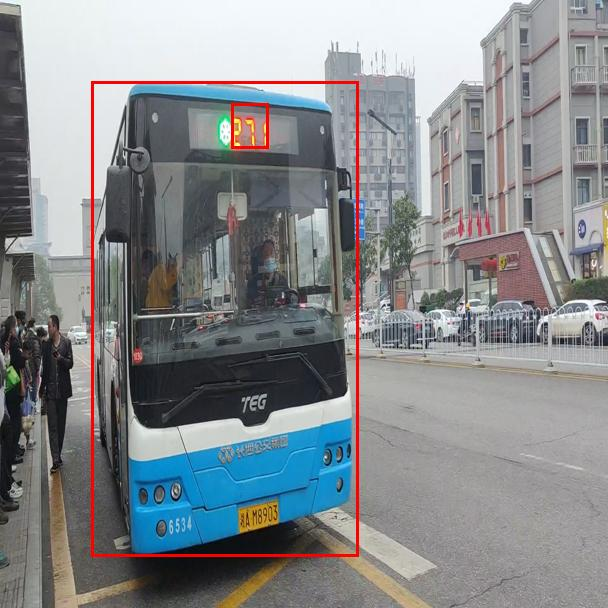bus: (91, 81, 358, 556)
screen: (231, 103, 268, 148)
